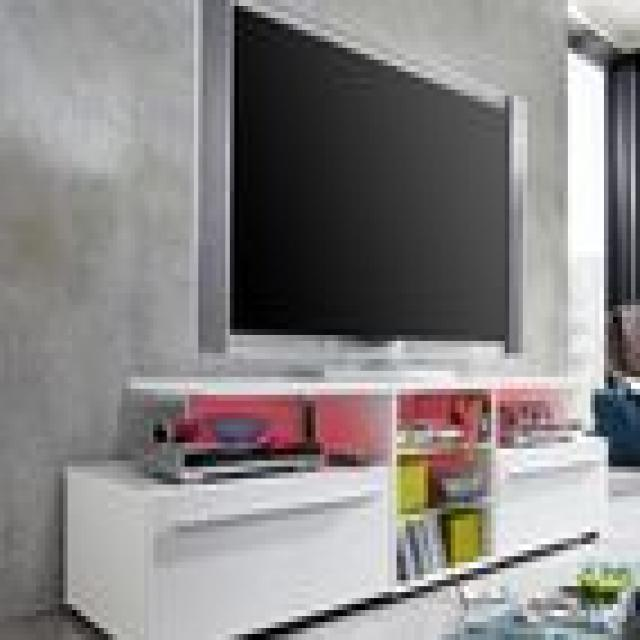others: (221, 6, 554, 365)
